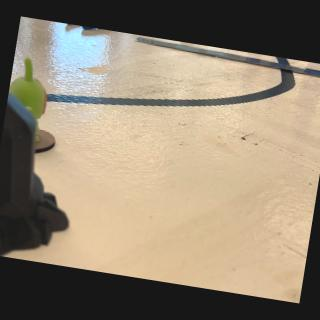teletubby: (9, 58, 47, 142)
